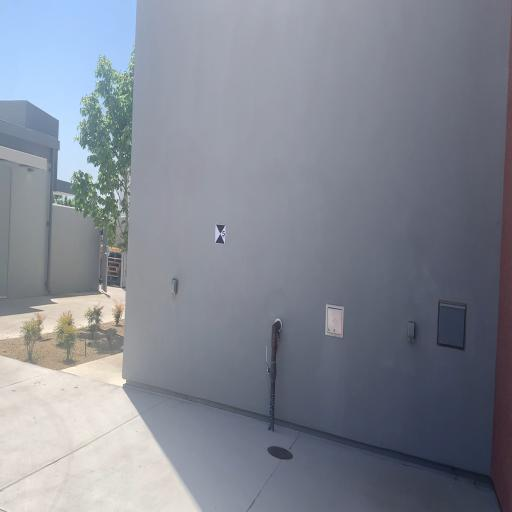target5: (215, 224, 226, 245)
